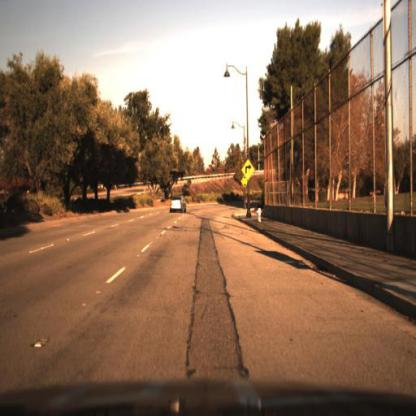car: (170, 194, 188, 217)
